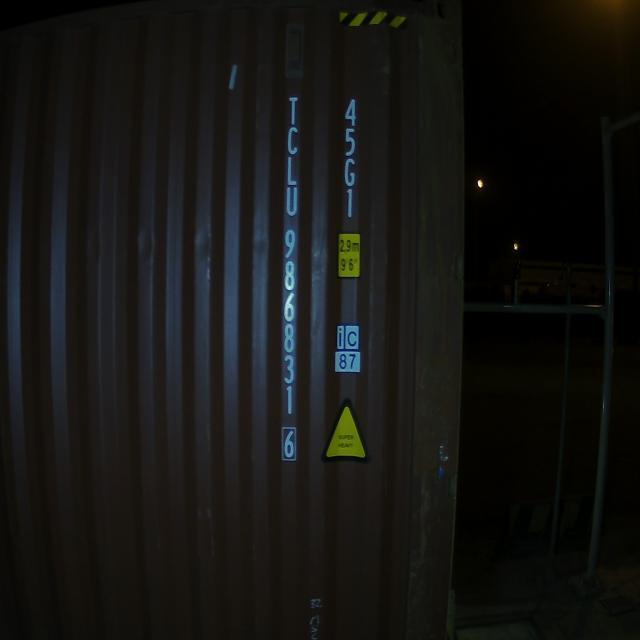ISO: (339, 90, 363, 236)
container_number: (274, 89, 304, 471)
